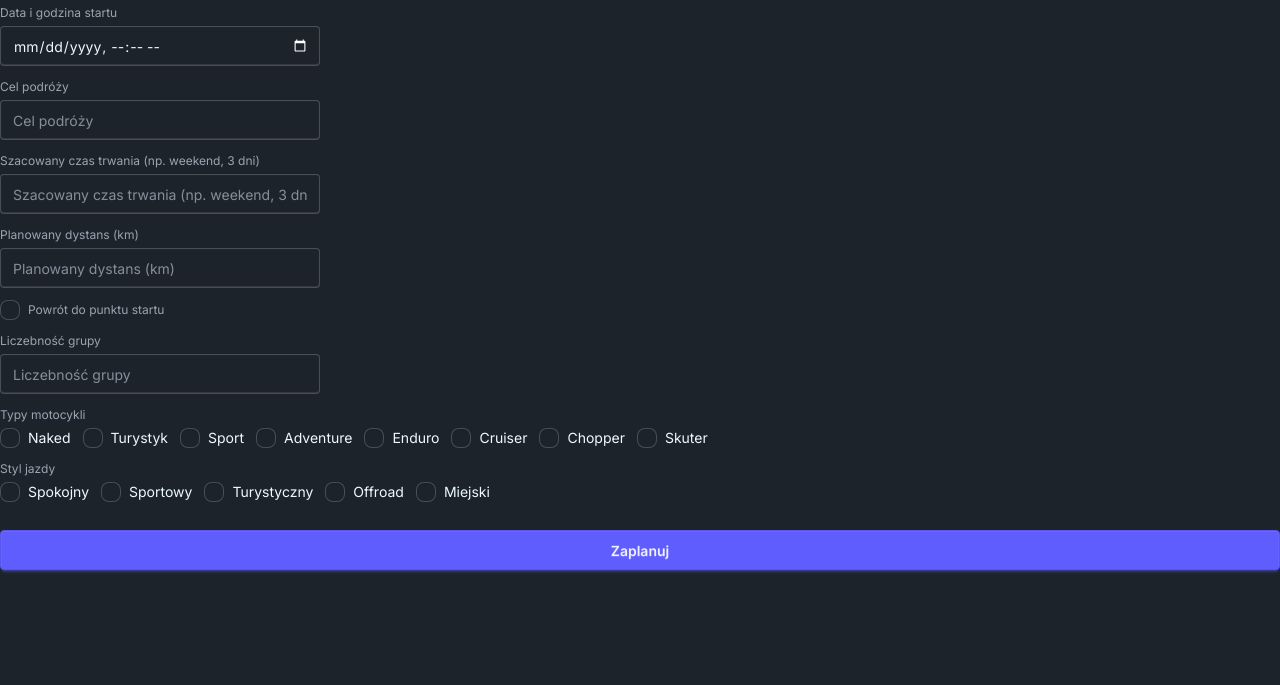
Test: TripForm component › shows validation errors and does not submit when fields are empty
Click the button "Zaplanuj" at x=640, y=550, box x1=0 y1=530 x2=1279 y2=570
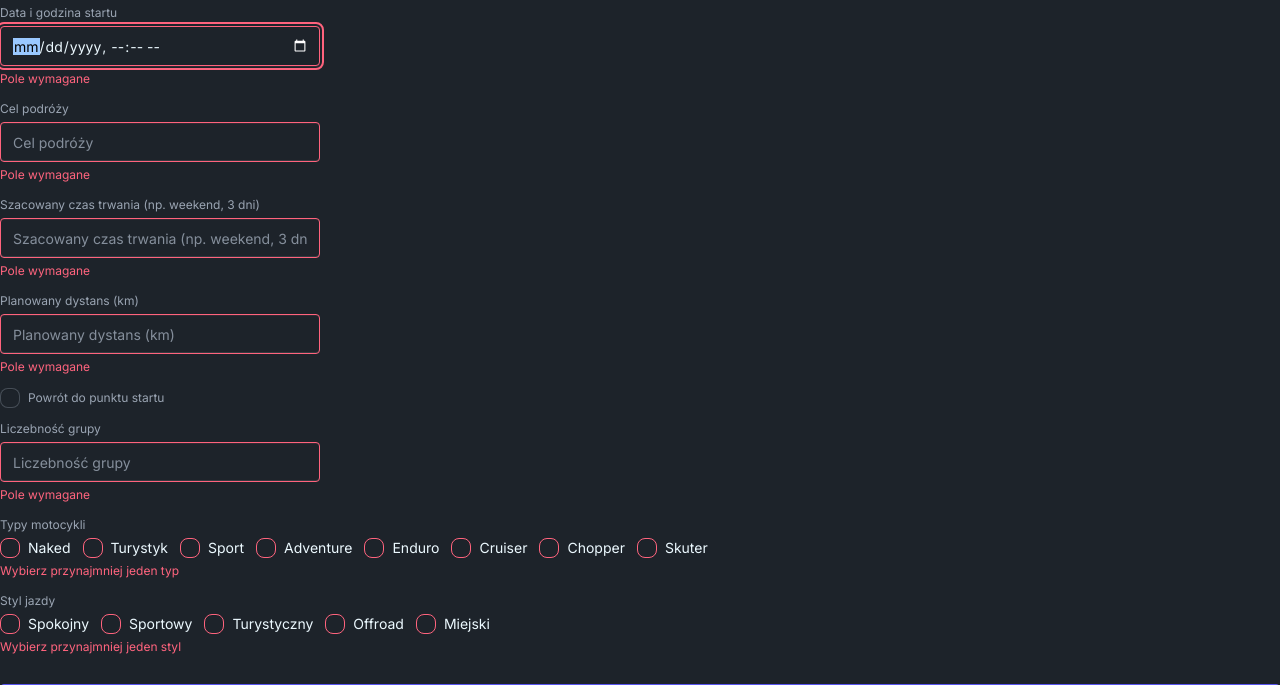
Expected: the text "Wybierz przynajmniej jeden typ" is shown, x1=0 y1=563 x2=179 y2=578
Expected: the text "Wybierz przynajmniej jeden styl" is shown, x1=0 y1=639 x2=181 y2=654
